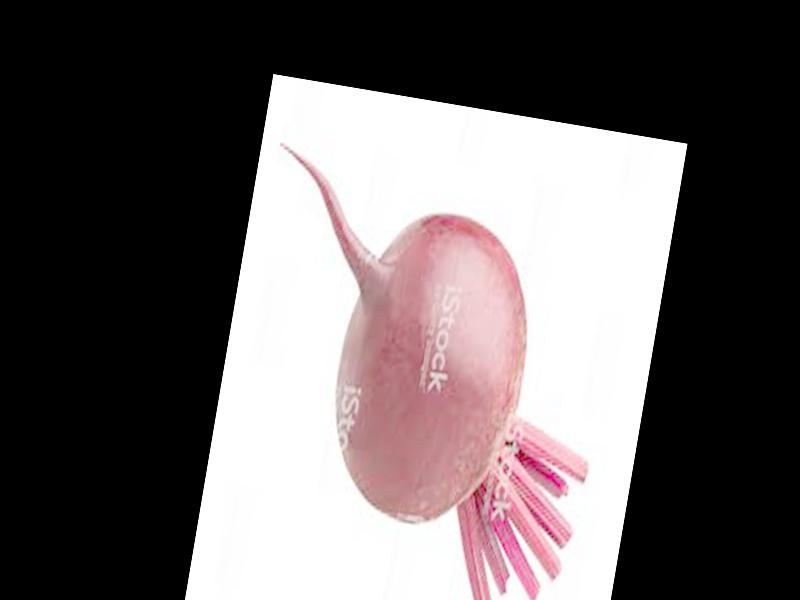Beet: (210, 141, 633, 600)
